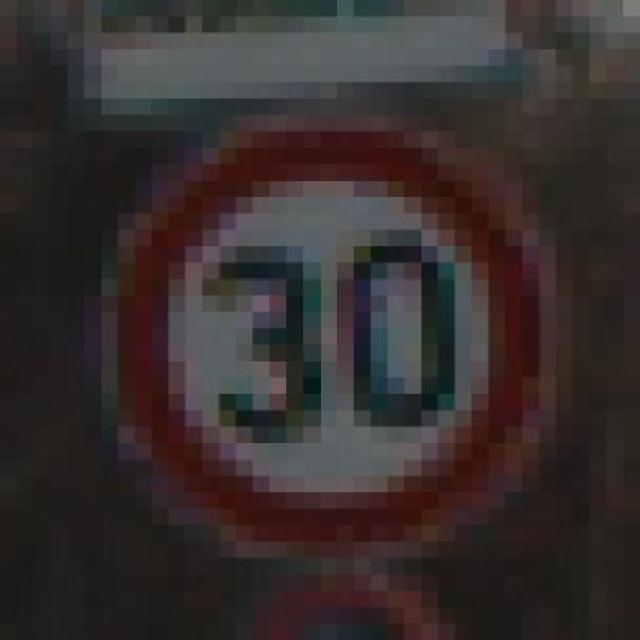Speed Limit 30 KMPh: (51, 115, 623, 607)
